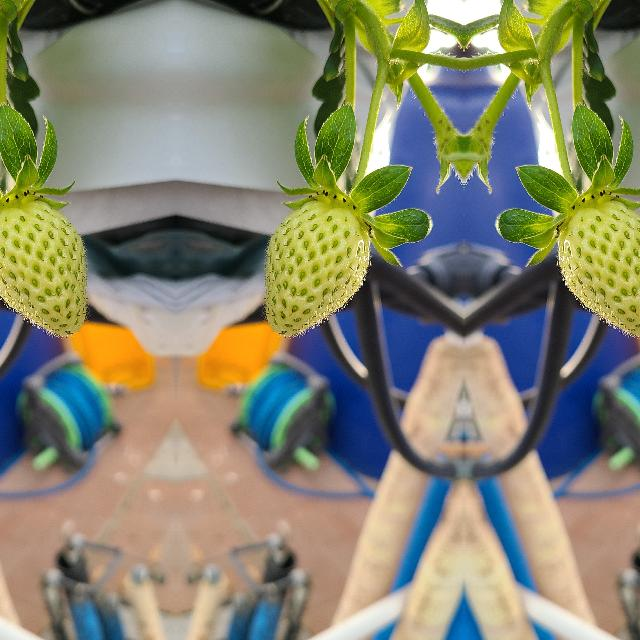Health_25: (264, 201, 368, 337), (0, 201, 86, 337), (557, 201, 640, 337)
